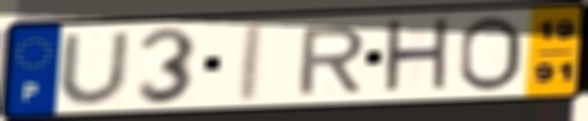3: (135, 24, 202, 106)
H: (379, 15, 453, 98)
I: (233, 20, 268, 105)
O: (455, 14, 525, 94)
R: (294, 23, 369, 97)
U: (55, 29, 134, 107)
